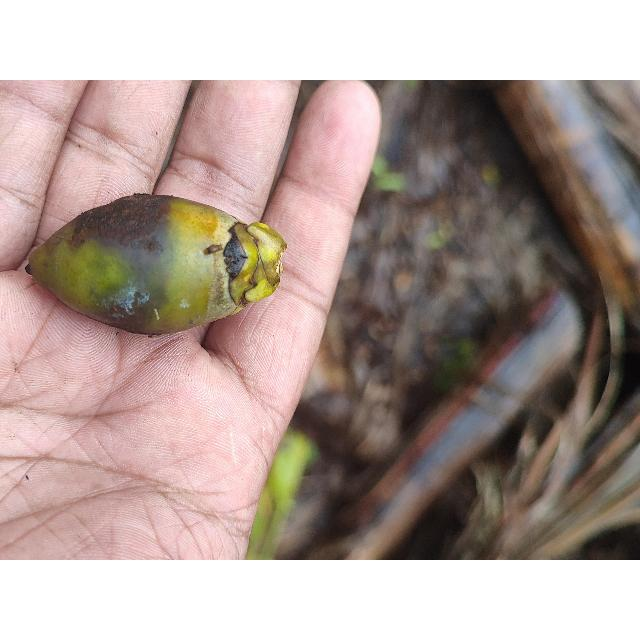damaged: (23, 193, 288, 338)
